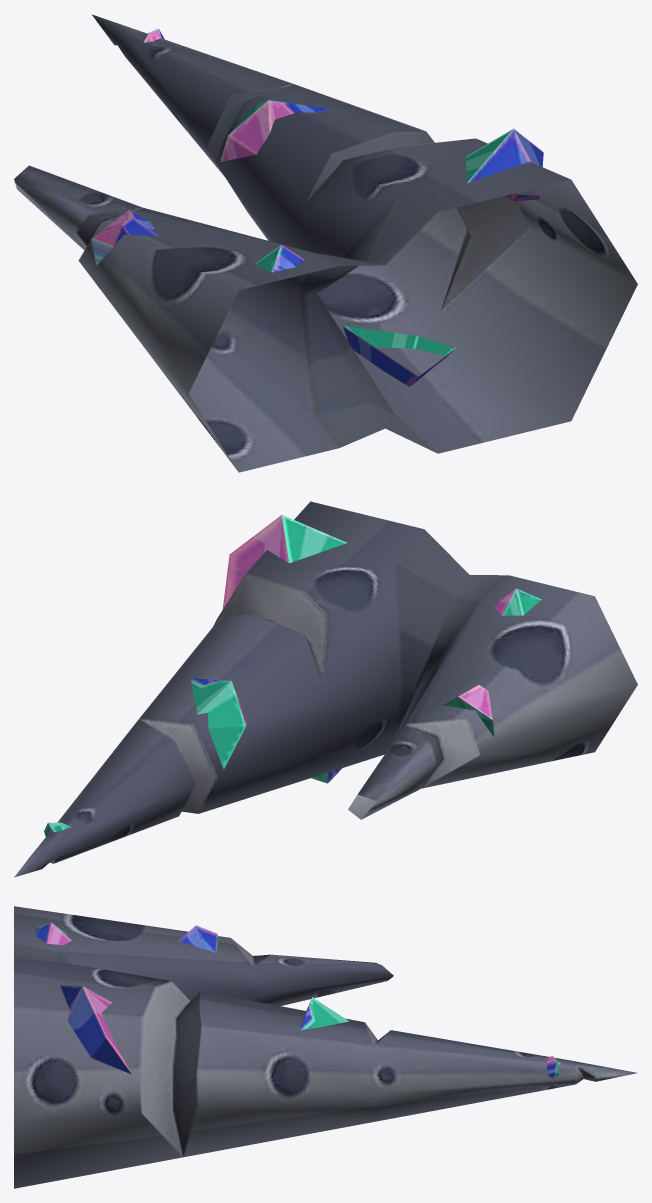
The model's file is Stalagmite.fbx.
The picture shows the model from 3 angles, top to bottom: view 1: azimuth 30°, elevation 25°; view 2: azimuth 150°, elevation 25°; view 3: azimuth 270°, elevation 25°; orthographic projection. The views are drawn at different scales.
Parts seen in each view (by area): view 1: Stalagmite; view 2: Stalagmite; view 3: Stalagmite.
Part boxes in pixels (<box>): Stalagmite: <box>14,14,637,472</box>; Stalagmite: <box>14,501,637,877</box>; Stalagmite: <box>14,906,636,1188</box>.
Size of the model in its own units: 82.34 by 45.94 by 131.
